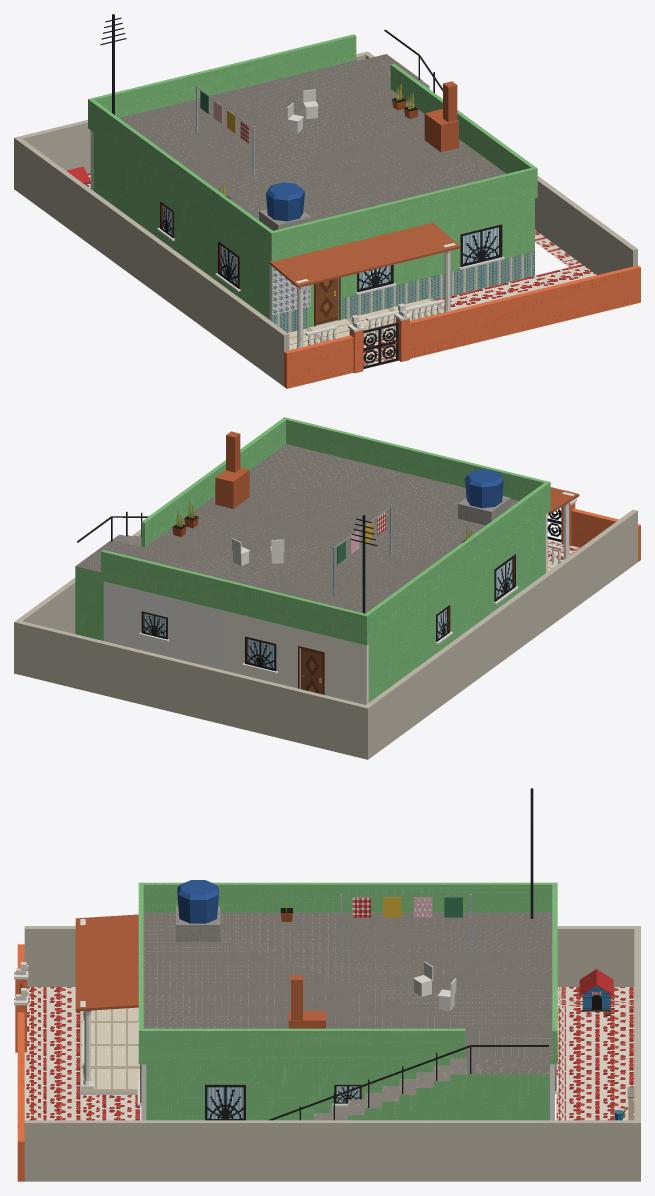
File: casa.glb
3 renders of one model, top to bottom at view 1: azimuth 30°, elevation 25°; view 2: azimuth 150°, elevation 25°; view 3: azimuth 270°, elevation 25°, orthographic. The views are drawn at different scales.
Parts seen in each view (by area): view 1: CasaEstrutura, Porta_portao, Porta_frente; view 2: CasaEstrutura, Porta_fundos; view 3: CasaEstrutura, Movel_Casinhadecachorro.
Boxes of the visible parts, x1,y1,x2,y2 form: CasaEstrutura: [14, 14, 640, 388]; Porta_portao: [363, 322, 398, 368]; Porta_frente: [316, 278, 337, 324]; CasaEstrutura: [14, 417, 640, 759]; Porta_fundos: [300, 648, 322, 694]; CasaEstrutura: [14, 788, 640, 1181]; Movel_Casinhadecachorro: [579, 969, 613, 1015].
Size of the model in its own units: 13.7 by 7.28 by 18.41.
Materials: 2 (2 with a texture image).
